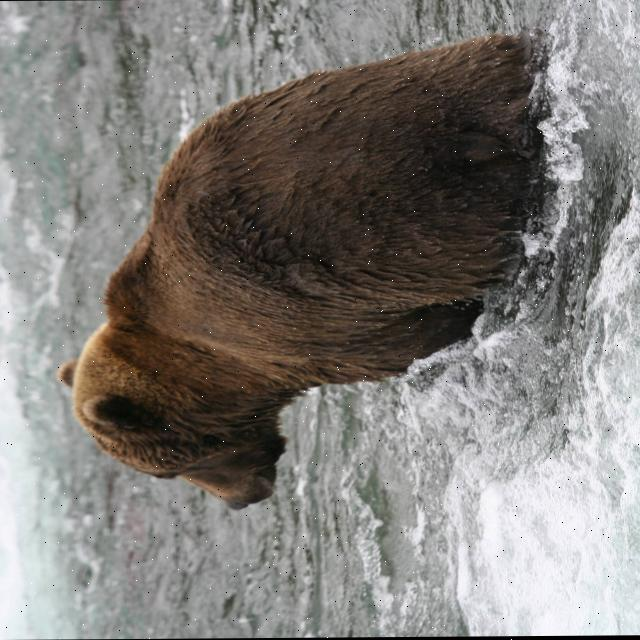bear face: (54, 34, 534, 511)
